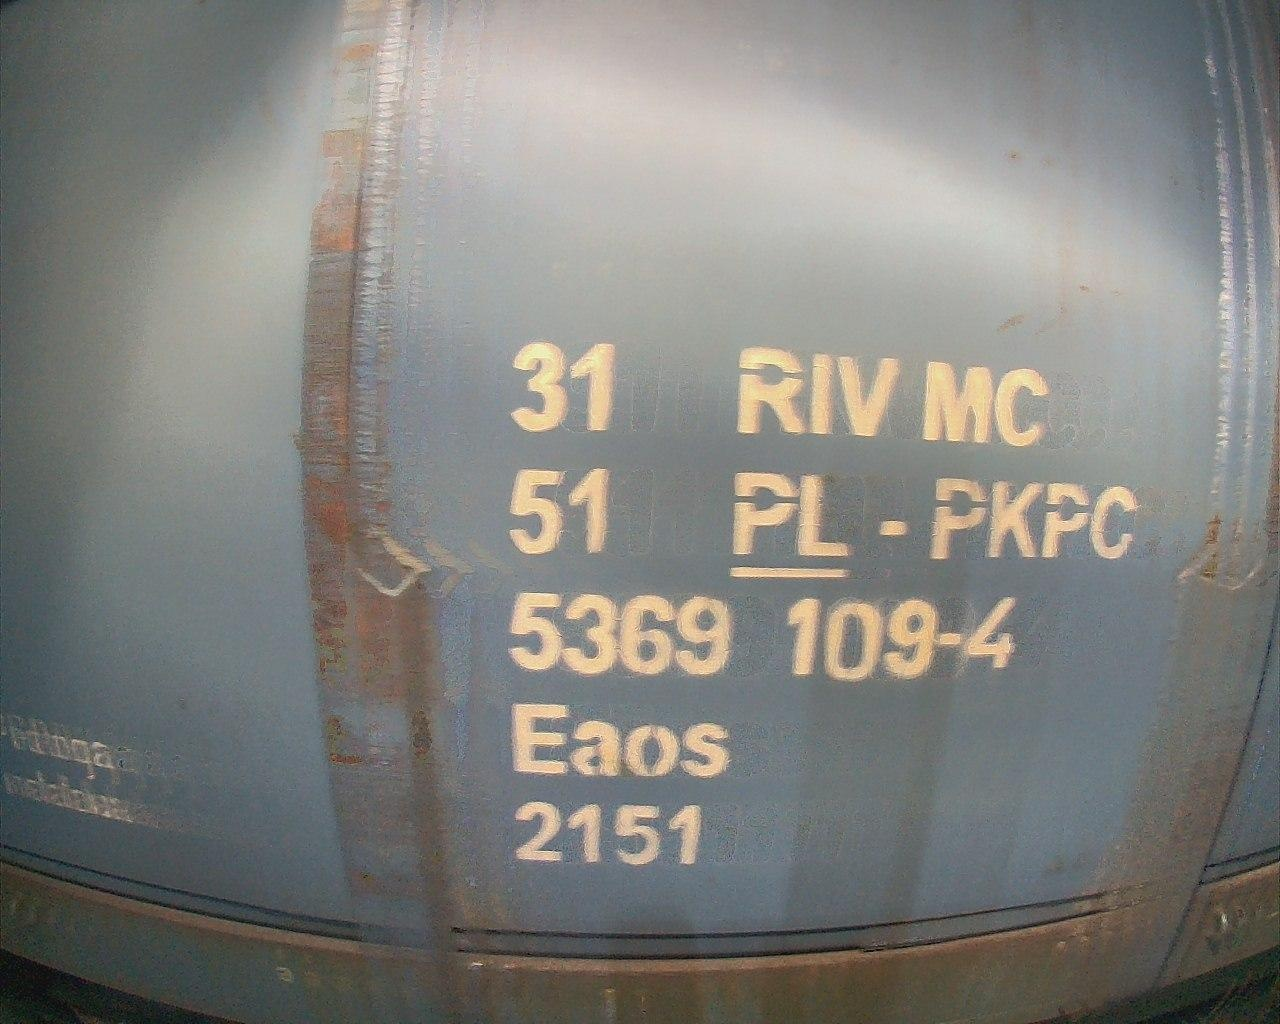UIC: (488, 335, 1148, 875)
